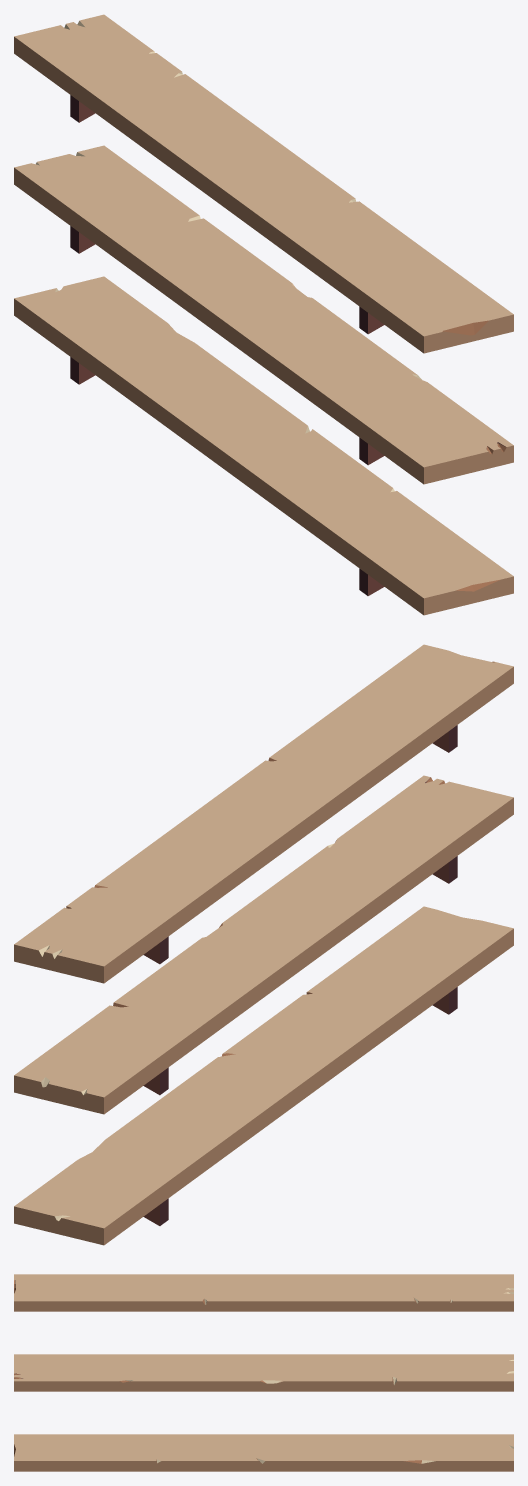
Rendered from shelves.fbx.
3 views of the same model, one above another, from view 1: azimuth 30°, elevation 25°; view 2: azimuth 150°, elevation 25°; view 3: azimuth 270°, elevation 25° (orthographic). The views are drawn at different scales.
Parts seen in each view (by area): view 1: Shelf1; view 2: Shelf1; view 3: Shelf1.
Boxes of the visible parts, left/top/right/bottom form: Shelf1: left=14, top=14, right=513, bottom=615; Shelf1: left=14, top=644, right=513, bottom=1245; Shelf1: left=14, top=1274, right=513, bottom=1471.
Bounding box in the file's own units: 5.67 × 0.7204 × 2.3.
